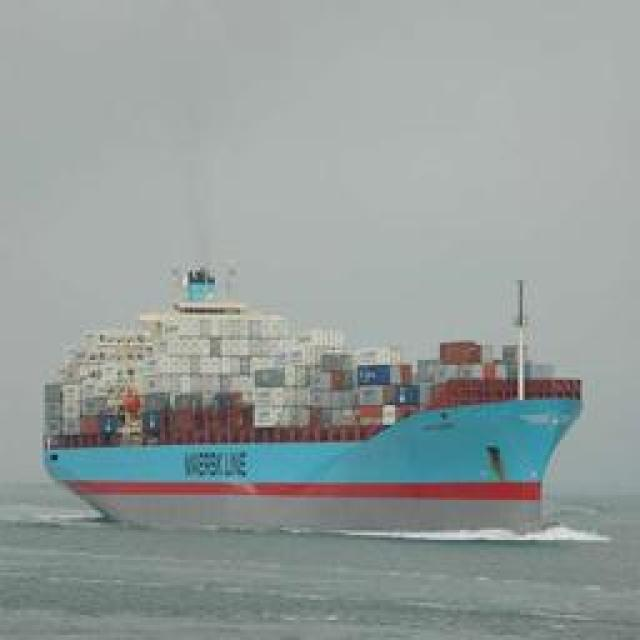CIV_Ship: (39, 276, 586, 532)
